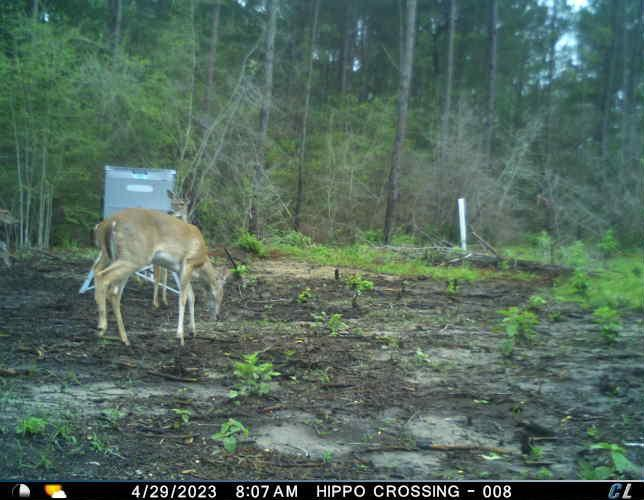Deer: (89, 211, 232, 354), (149, 186, 191, 321), (0, 201, 20, 271)
